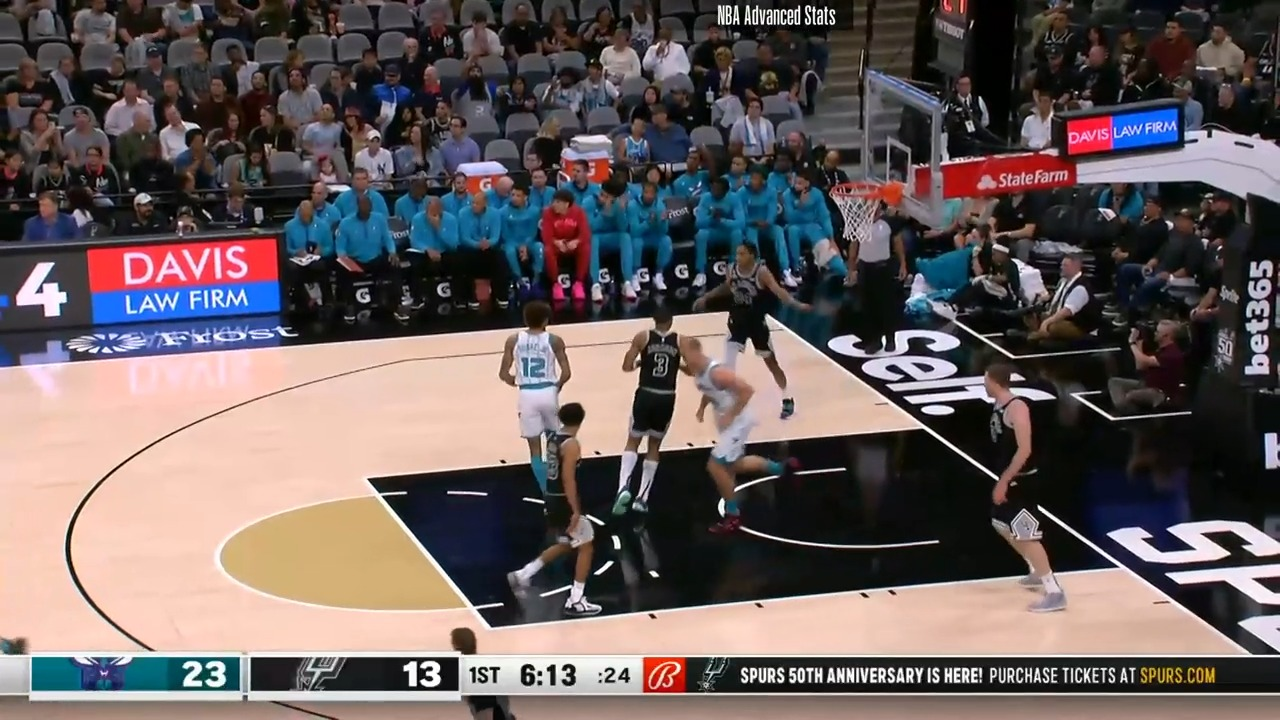net: (829, 172, 910, 242)
player: (965, 356, 1057, 619), (678, 329, 793, 534), (693, 241, 809, 429), (609, 304, 705, 521), (513, 402, 603, 621), (497, 300, 575, 504)
referee: (840, 201, 910, 360)
